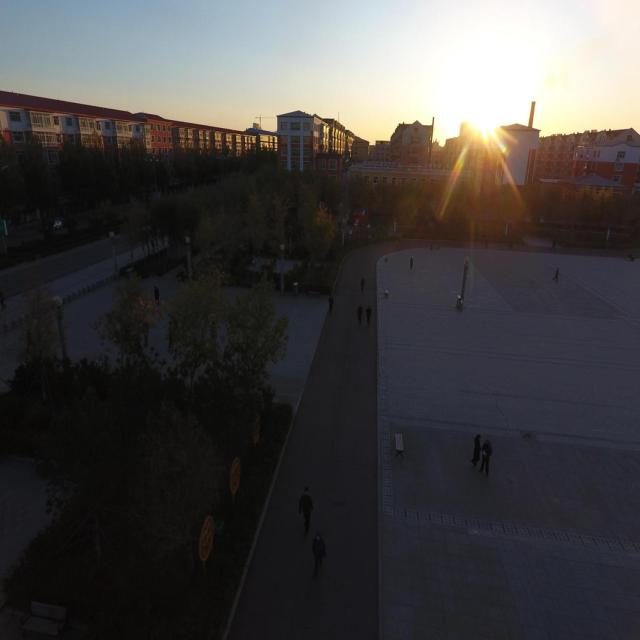person: (298, 486, 313, 536), (311, 531, 326, 578), (478, 439, 492, 477), (470, 433, 482, 468), (552, 266, 560, 282), (154, 286, 160, 306), (328, 296, 333, 313), (409, 256, 413, 269)
